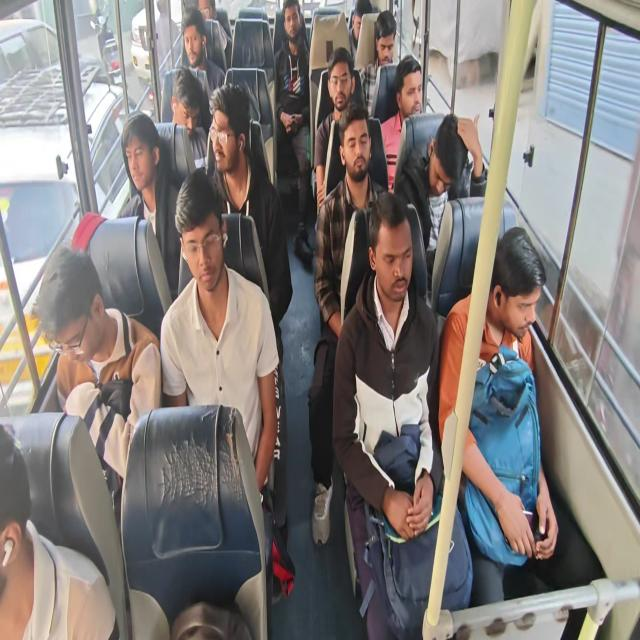person: (332, 191, 473, 638), (438, 224, 559, 604), (159, 166, 280, 513), (308, 102, 388, 545), (31, 241, 162, 500), (0, 422, 118, 639), (205, 81, 293, 364), (393, 112, 487, 285), (118, 111, 182, 301), (273, 0, 312, 265), (314, 46, 364, 228), (379, 54, 423, 191), (176, 6, 225, 96), (170, 66, 208, 171), (360, 9, 397, 116), (198, 0, 232, 73), (348, 0, 372, 65)
